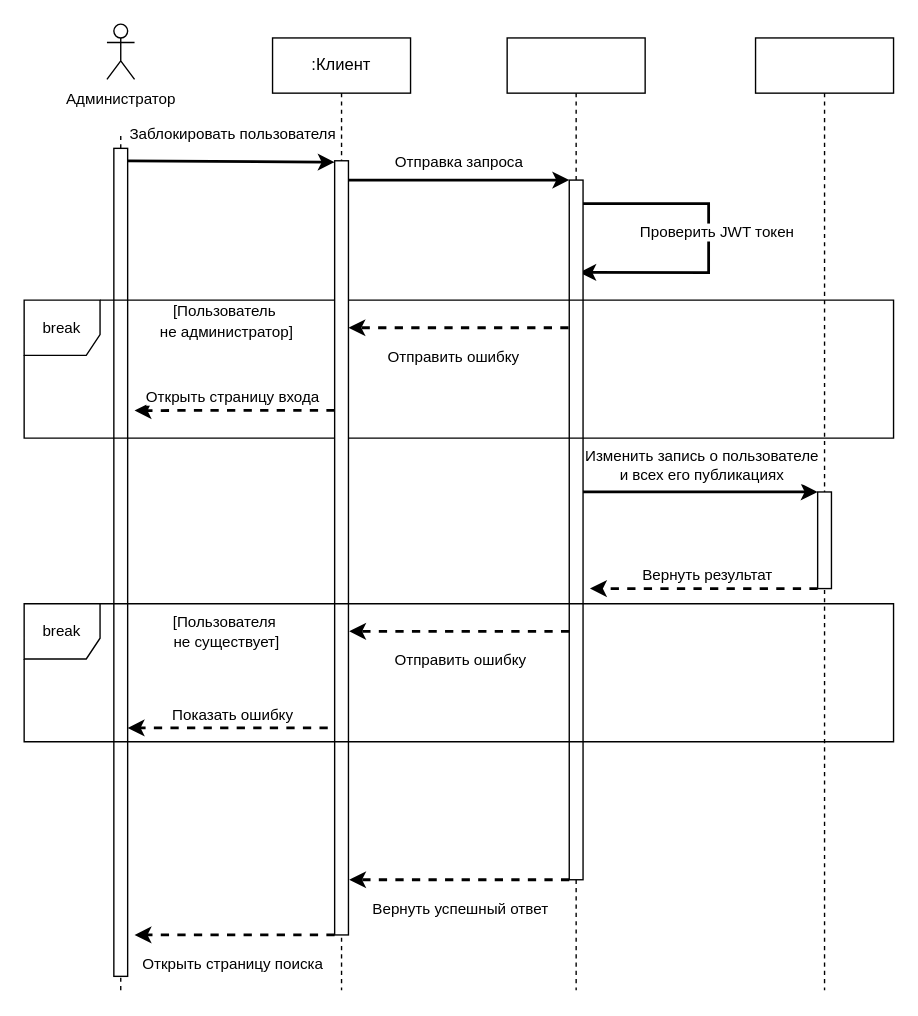
Some shapes in this 918 by 1016 pixel diagram are drawn without their labels. The box of each missing label's shape, as (x1, y1, x2, y2) in pixels:
:База данных: (754, 37, 894, 990)
:Сервер: (506, 37, 645, 990)
